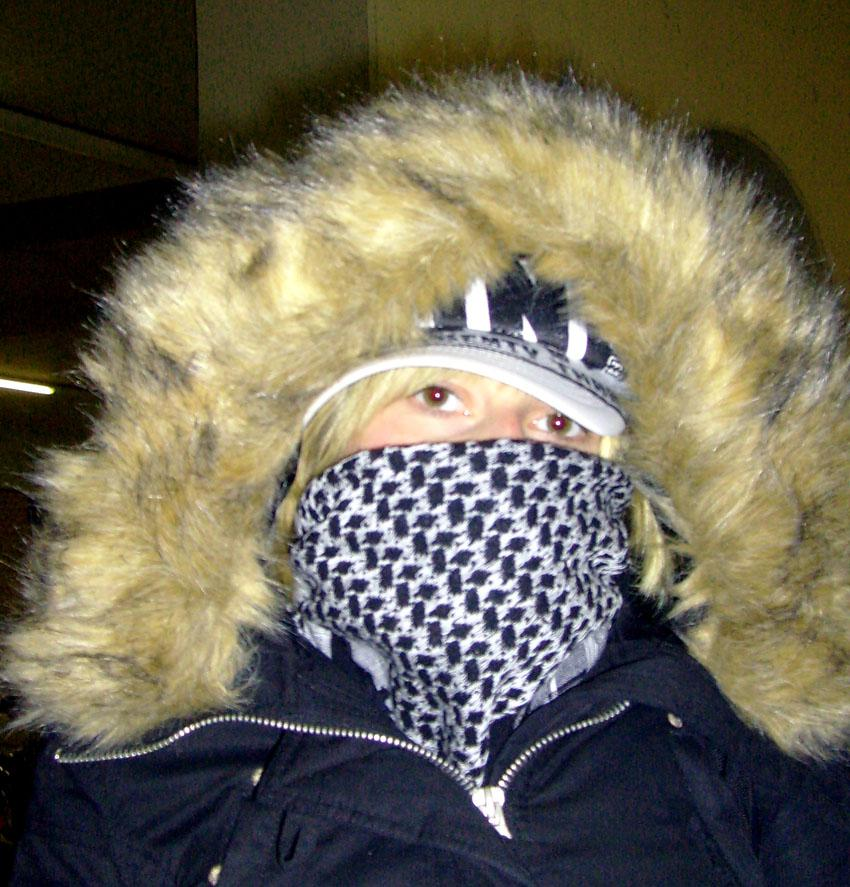OK: (300, 362, 632, 686)
